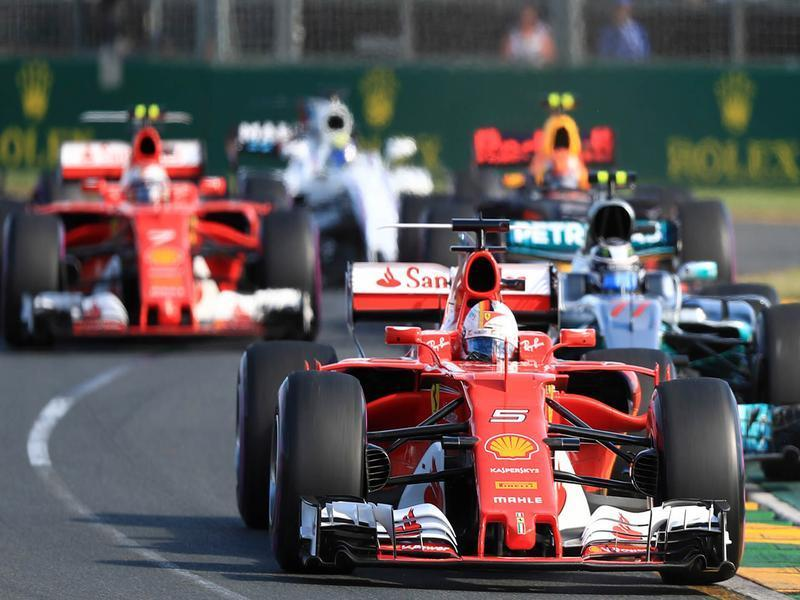f1: (211, 241, 765, 580), (470, 200, 800, 416), (22, 147, 346, 349)
